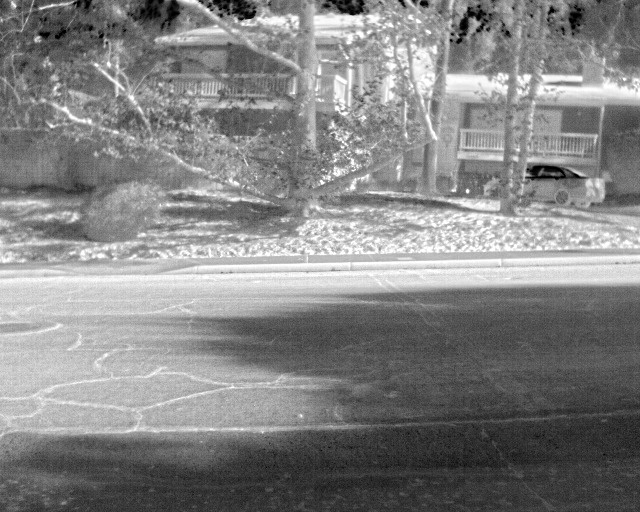vehicle: (483, 165, 606, 206)
